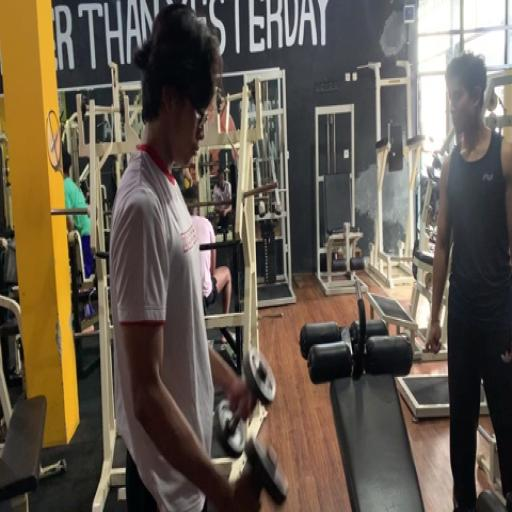exercise: (108, 2, 262, 510), (422, 50, 511, 510)
